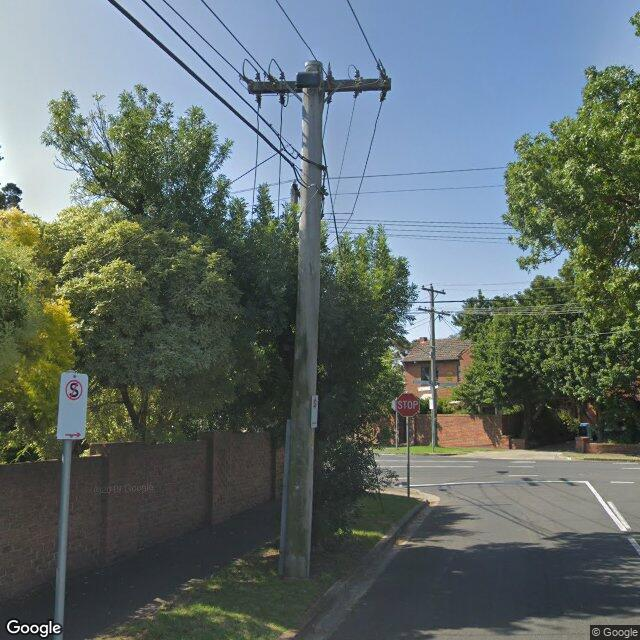HV-transmission: (422, 284, 444, 292)
crossarm: (248, 78, 391, 94), (418, 308, 445, 314), (421, 288, 446, 294)
timber-pole: (282, 60, 323, 580), (430, 286, 437, 447)
